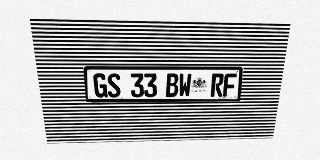3: (130, 73, 144, 97), (144, 73, 157, 97)
B: (166, 73, 179, 97)
F: (223, 73, 237, 97)
G: (93, 73, 108, 98)
R: (210, 73, 224, 97)
S: (107, 73, 121, 97)
W: (178, 73, 192, 97)
